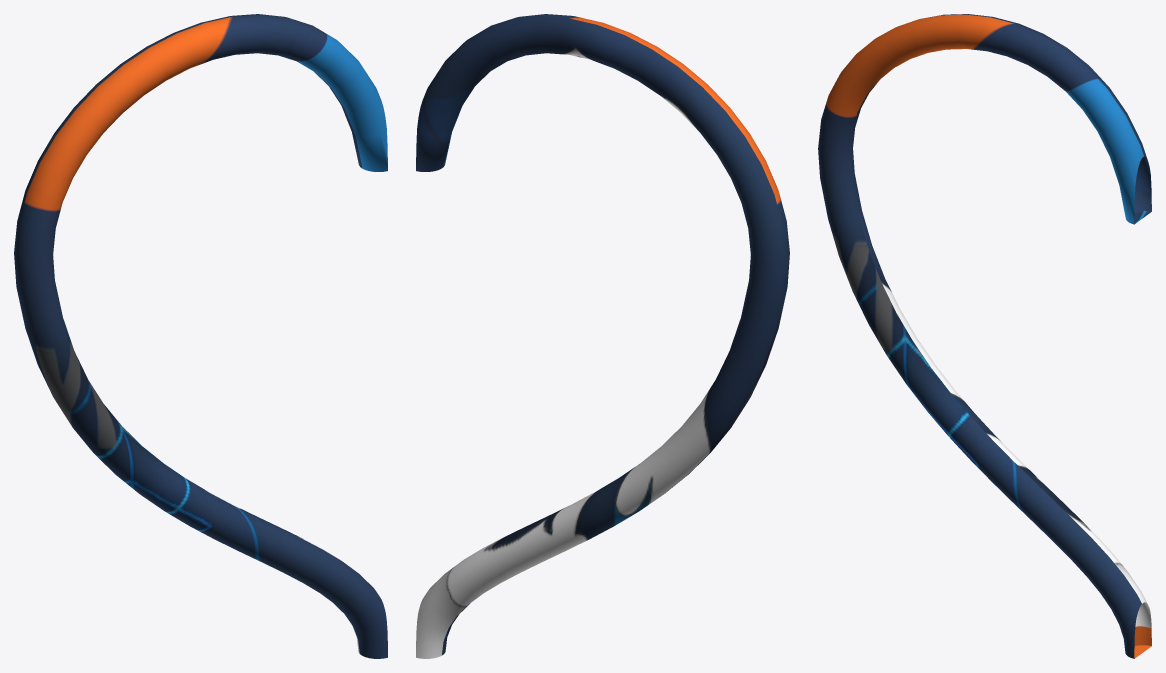
Rendered from HeartRight.fbx.
The picture shows the model from 3 angles, left to right: view 1: azimuth 30°, elevation 25°; view 2: azimuth 150°, elevation 25°; view 3: azimuth 330°, elevation 25°; orthographic projection. The views are drawn at different scales.
Visible parts, largest first — view 1: heart.001; view 2: heart.001; view 3: heart.001.
Boxes of the visible parts, x1,y1,x2,y2 form: heart.001: (14, 14, 387, 658); heart.001: (416, 14, 789, 658); heart.001: (818, 14, 1151, 658).
Bounding box in the file's own units: 35.02 × 61.92 × 3.29.
